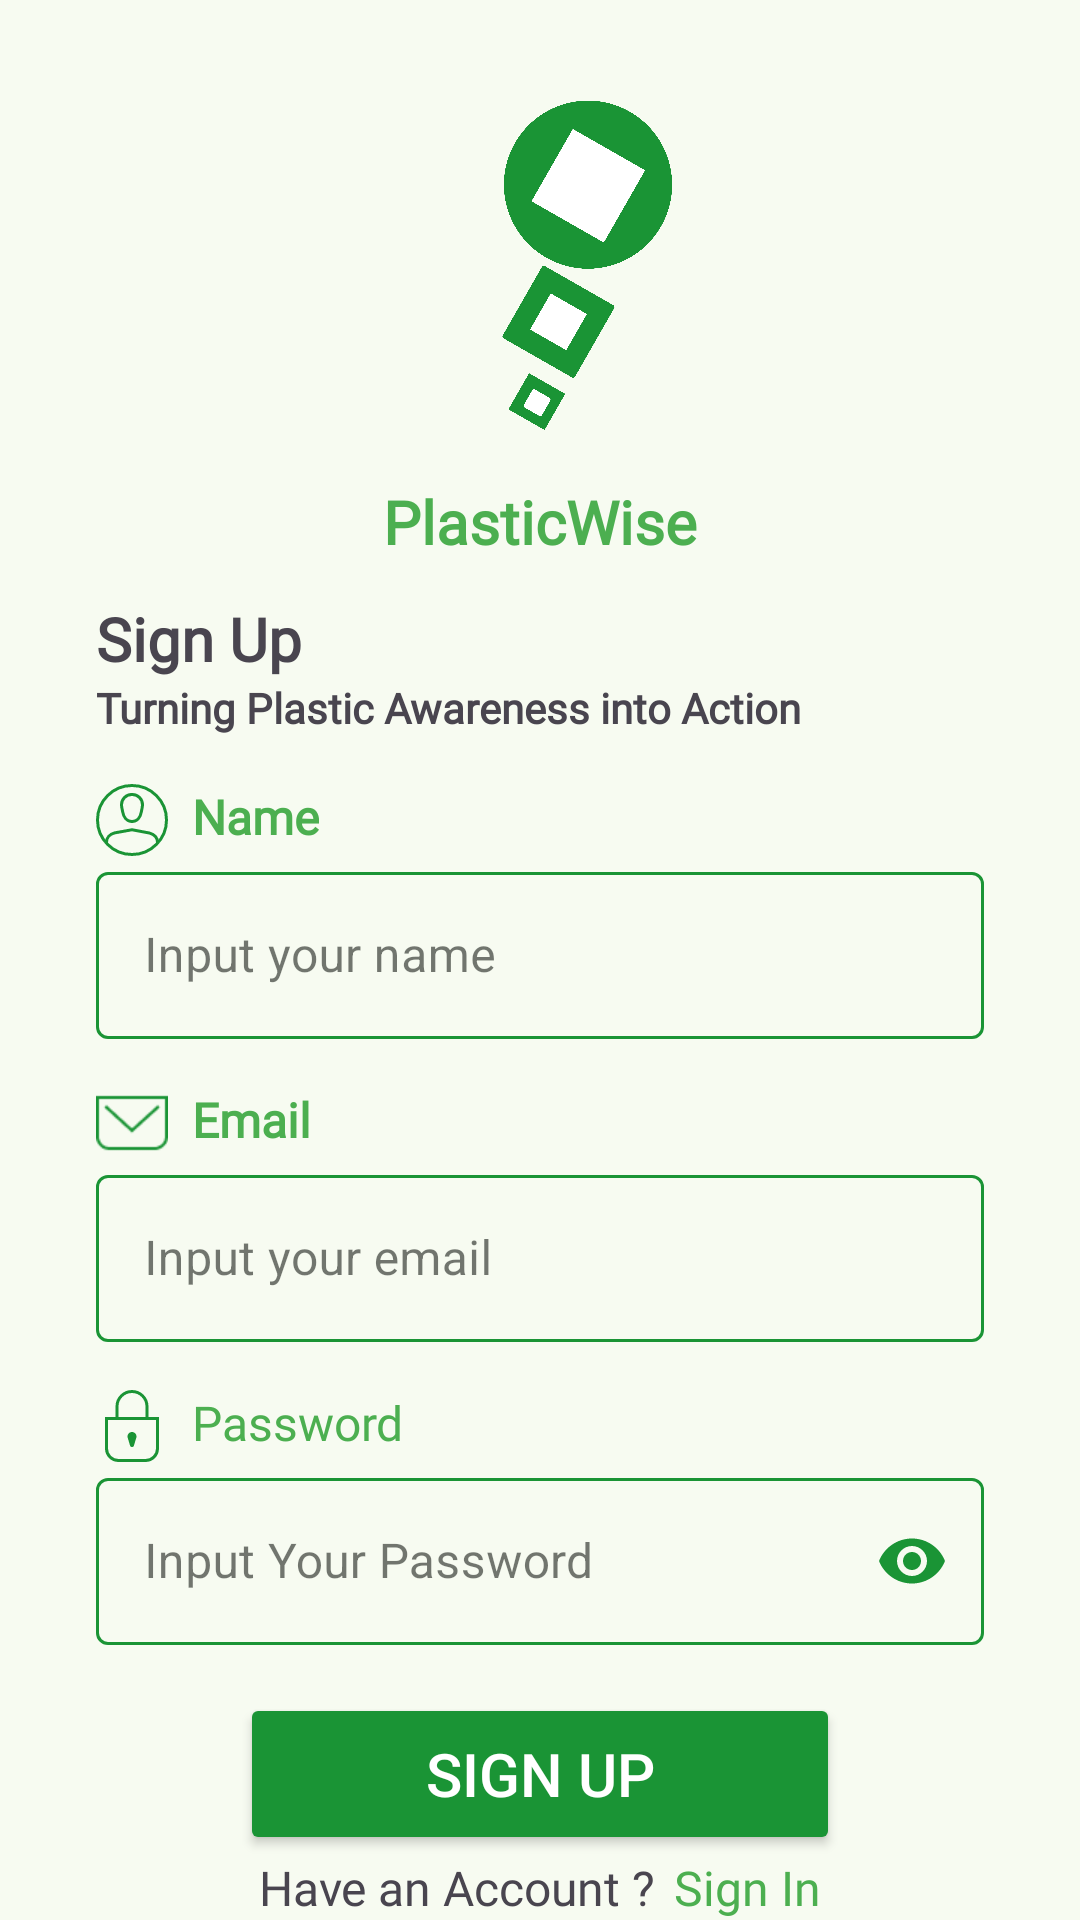

Icon bounding boxes for this 1080*1920 phone screenshot, format (x1, y1, x2, y2):
lock: (105, 1390, 159, 1462)
user: (96, 784, 168, 856)
